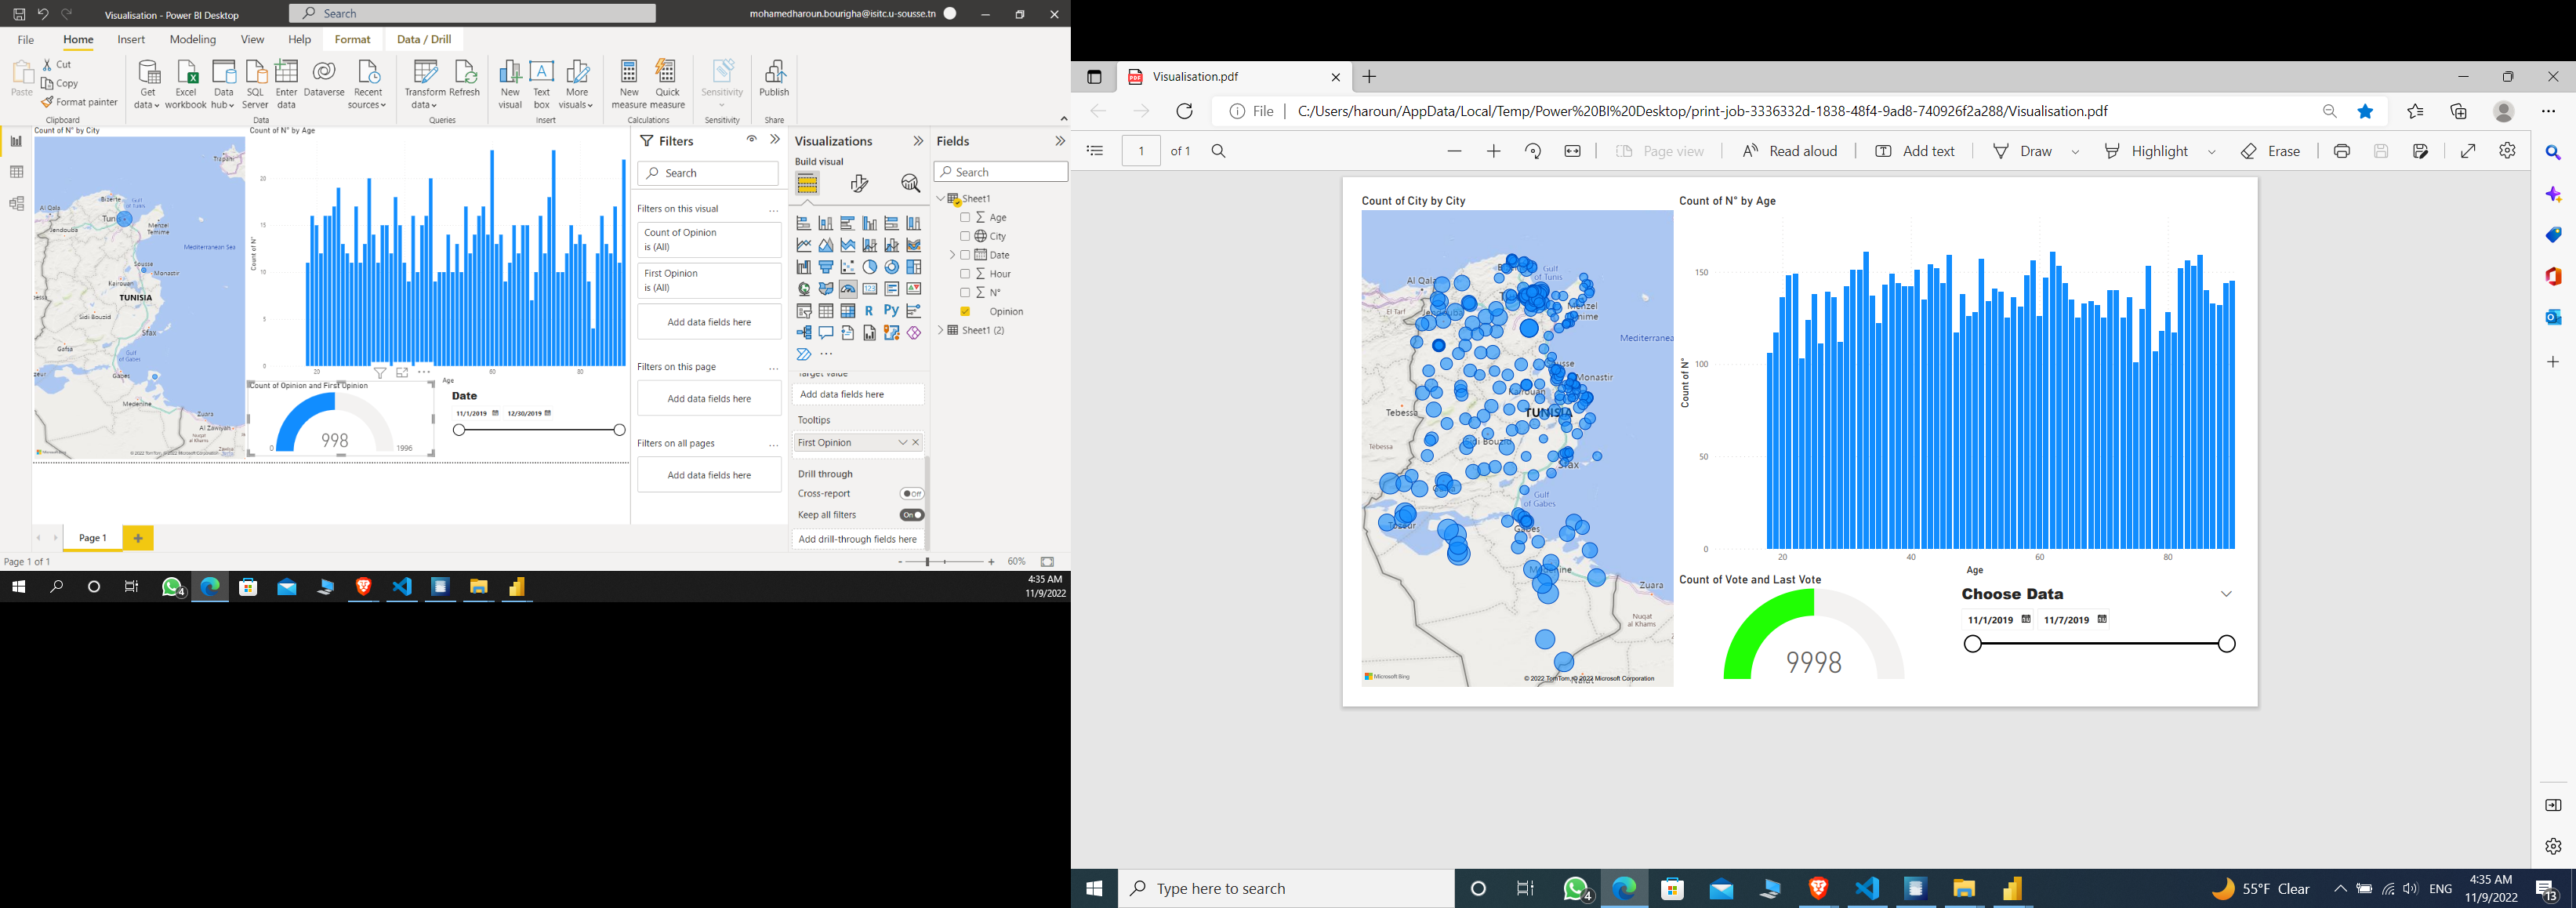

The dashboard page shown, as its layout file describes it:
{"tool":"powerbi","page":{"name":"Page 1","canvas":[1280,720],"ordinal":0},"visuals":[{"type":"slicer","fields":{"Values":["Simulation.DateByY_M_D"]},"box":[861.1,559,417.5,159.3],"z":0},{"type":"map","fields":{"Category":["Simulation.City"],"Size":["CountNonNull(Simulation.City)"]},"box":[0,0,460.7,718.8],"z":1000},{"type":"clusteredColumnChart","fields":{"Category":["Simulation.Age"],"Y":["CountNonNull(Simulation.N°)"]},"box":[460.7,0,817.7,558.4],"z":2000},{"type":"gauge","fields":{"Y":["CountNonNull(Simulation.Vote)"]},"box":[460.7,547.5,400.4,160.4],"z":3000}]}

Visuals, with their boxes on the page's 1280x720 design canvas (x1, y1, x2, y2). These are canvas units, not pixel positions in the 2576x908 screenshot, which may show the page scaled, cropped or inside an application window:
slicer - Simulation.DateByY_M_D: BBox(861, 559, 1279, 718)
map - Simulation.City x CountNonNull(Simulation.City): BBox(0, 0, 461, 719)
clusteredColumnChart - Simulation.Age x CountNonNull(Simulation.N°): BBox(461, 0, 1278, 558)
gauge - CountNonNull(Simulation.Vote): BBox(461, 548, 861, 708)
